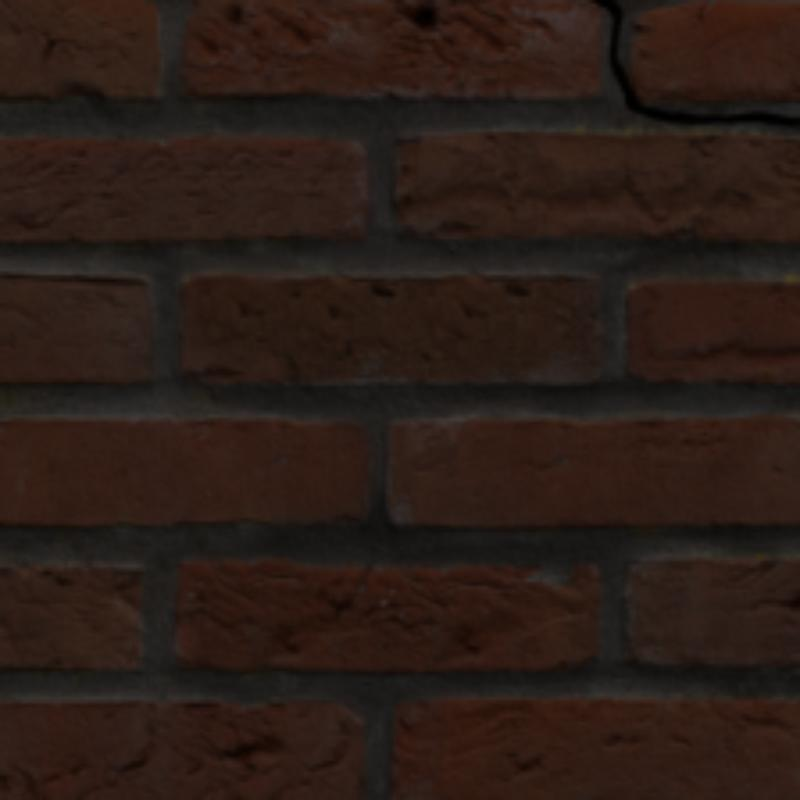pothole: (593, 0, 796, 121)
